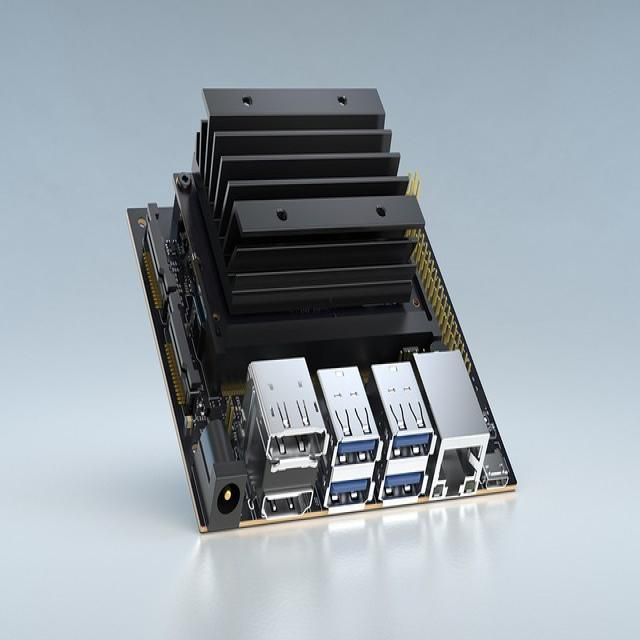Jetson Nano: (129, 88, 521, 531)
